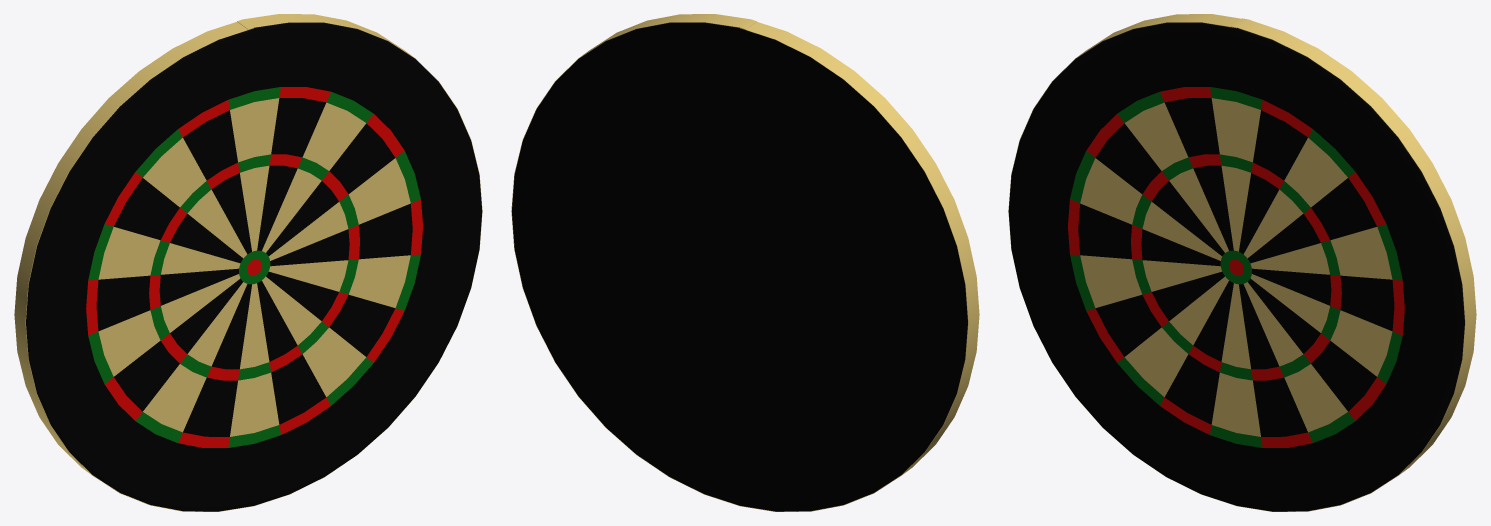
File: dartboard.fbx
The picture shows the model from 3 angles, left to right: view 1: azimuth 30°, elevation 25°; view 2: azimuth 150°, elevation 25°; view 3: azimuth 330°, elevation 25°; orthographic projection.
Visible parts, largest first — view 1: Dart board.001; view 2: Dart board.001; view 3: Dart board.001.
Part boxes in pixels (x1,y1,x2,y2): Dart board.001: (14, 14, 482, 511); Dart board.001: (511, 14, 979, 511); Dart board.001: (1008, 14, 1476, 511).
Bounding box in the file's own units: 97.7 × 97.8 × 4.33.
